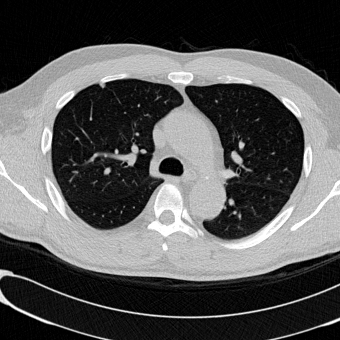nodule: (99, 82, 105, 88)
